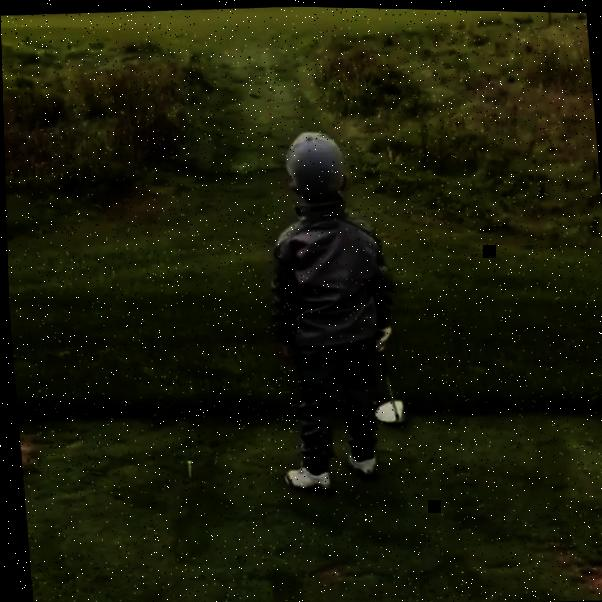ClubHead: (371, 396, 404, 423)
